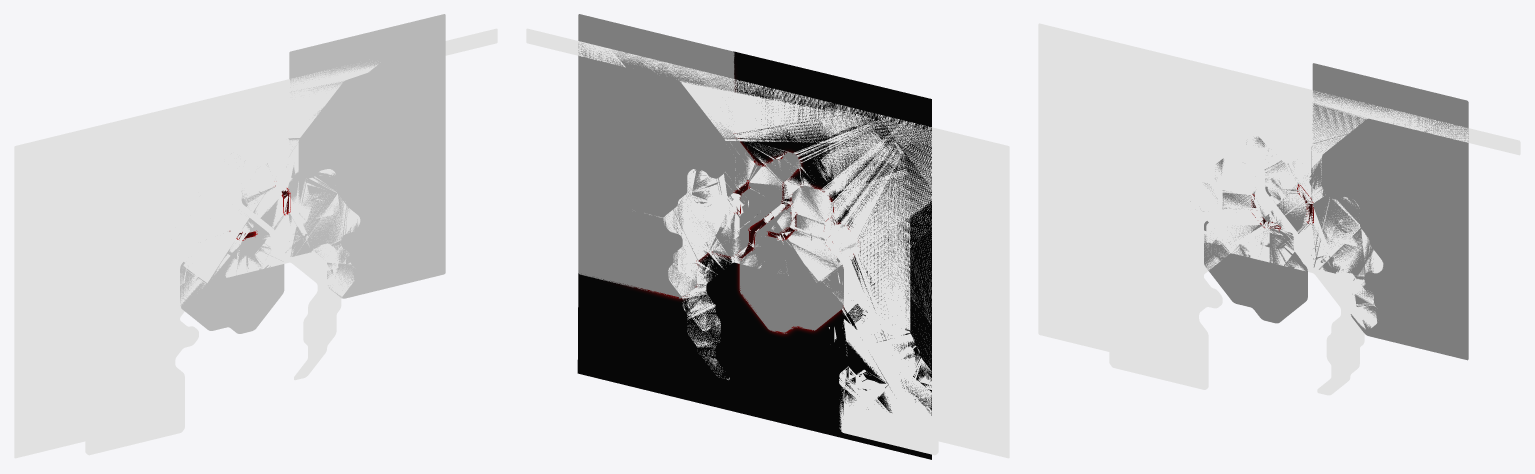
File: CapeTown.glb
3 renders of one model, left to right at view 1: azimuth 30°, elevation 25°; view 2: azimuth 150°, elevation 25°; view 3: azimuth 330°, elevation 25°, orthographic.
Visible parts, largest first — view 1: CapeTown_land, MSH_Copenhagen_Land, CapeTown_mount_bottom, CapeTown_mount_top, MSH_Copenhagen_Grass, CapeTown_mount_mid, MSH_Map_Grass_Middle_03, MSH_Map_Grass_Middle_05 (1); view 2: MSH_Copenhagen_Water, CapeTown_land, MSH_Copenhagen_Land, CapeTown_mount_top, CapeTown_mount_mid, CapeTown_mount_bottom, MSH_Copenhagen_Grass; view 3: CapeTown_land, MSH_Copenhagen_Land, CapeTown_mount_bottom, CapeTown_mount_top, MSH_Copenhagen_Grass, CapeTown_mount_mid, MSH_Map_Grass_Middle_05 (1), MSH_Map_Grass_Middle_03.
Boxes of the visible parts, x1,y1,x2,y2 form: CapeTown_land: (14,28,497,458); MSH_Copenhagen_Land: (180,14,445,333); CapeTown_mount_bottom: (85,107,345,455); CapeTown_mount_top: (92,115,338,446); MSH_Copenhagen_Grass: (241,146,331,332); CapeTown_mount_mid: (90,297,331,449); MSH_Map_Grass_Middle_03: (245,265,273,311); MSH_Map_Grass_Middle_05 (1): (187,268,227,313); MSH_Copenhagen_Water: (577,51,931,459); CapeTown_land: (526,28,1009,458); MSH_Copenhagen_Land: (578,14,857,333); CapeTown_mount_top: (685,115,931,446); CapeTown_mount_mid: (682,113,933,449); CapeTown_mount_bottom: (678,107,938,455); MSH_Copenhagen_Grass: (692,145,825,332); CapeTown_land: (1038,23,1520,395); MSH_Copenhagen_Land: (1190,63,1468,360); CapeTown_mount_bottom: (1109,63,1367,389); CapeTown_mount_top: (1116,71,1357,381); MSH_Copenhagen_Grass: (1222,162,1354,323); CapeTown_mount_mid: (1114,320,1354,384); MSH_Map_Grass_Middle_05 (1): (1211,239,1250,287); MSH_Map_Grass_Middle_03: (1268,264,1297,306).
Size of the model in its own units: 204 by 145 by 0.00401.
Materials: 8 (1 with a texture image).
